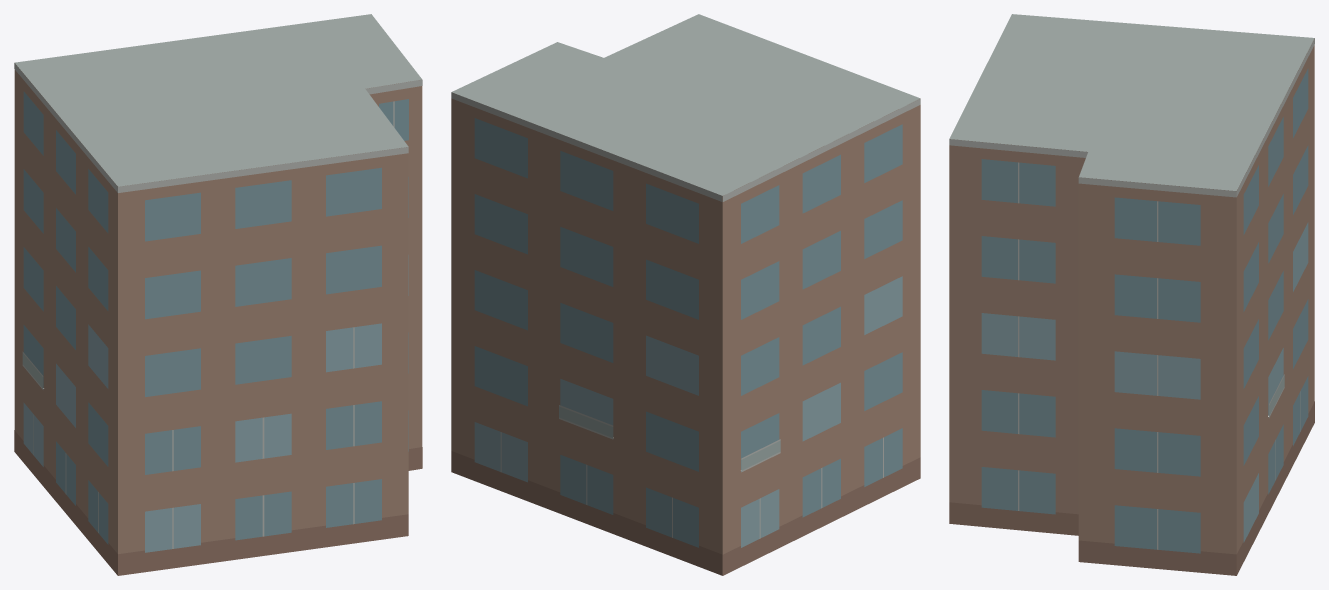
The model's file is survey-upis-32536525.glb.
3 renders of one model, left to right at view 1: azimuth 30°, elevation 25°; view 2: azimuth 150°, elevation 25°; view 3: azimuth 270°, elevation 25°, orthographic. The views are drawn at different scales.
Parts seen in each view (by area): view 1: survey-upis-32536525.tmp; view 2: survey-upis-32536525.tmp; view 3: survey-upis-32536525.tmp.
Boxes of the visible parts, box(x1,y1,x2,y2) form: survey-upis-32536525.tmp: box(14, 14, 422, 575); survey-upis-32536525.tmp: box(451, 14, 920, 575); survey-upis-32536525.tmp: box(949, 14, 1314, 575).
Size of the model in its own units: 14.62 by 14.8 by 12.75.
